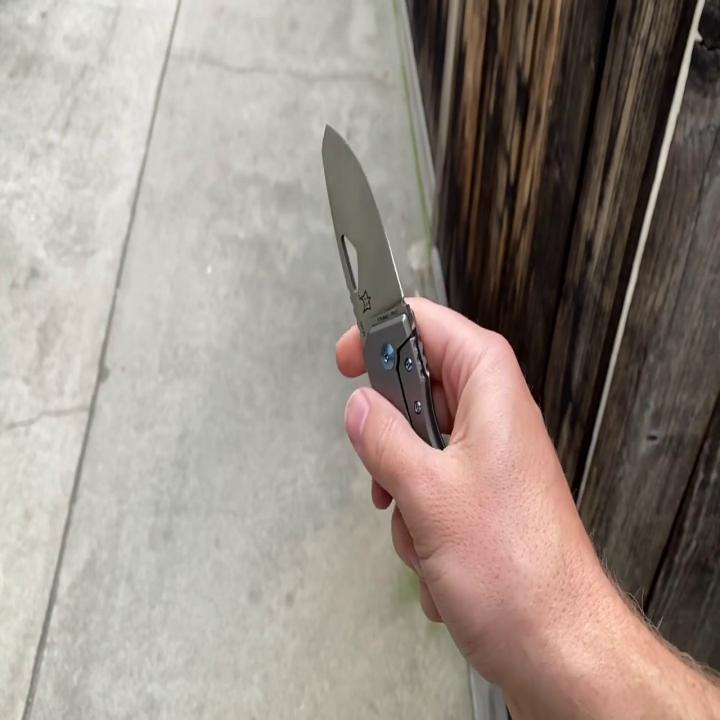knife: (318, 116, 448, 456)
